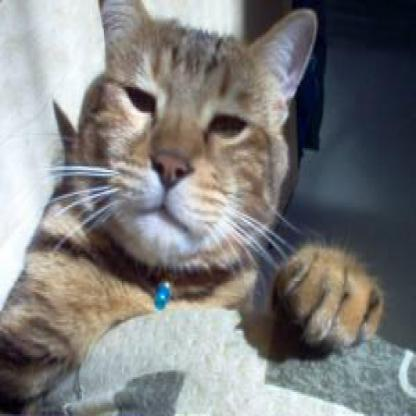cat: (0, 0, 383, 414)
